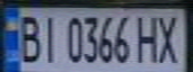0: (63, 12, 84, 64)
3: (81, 12, 100, 64)
6: (112, 12, 136, 64), (97, 12, 118, 64)
B: (12, 11, 42, 63)
H: (133, 11, 163, 64)
I: (36, 11, 60, 64)
X: (154, 11, 184, 64)
